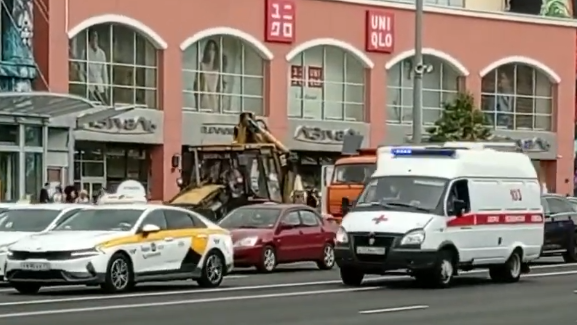ambulance: (338, 141, 546, 288)
non emergency car: (4, 204, 234, 295), (221, 200, 338, 273)
